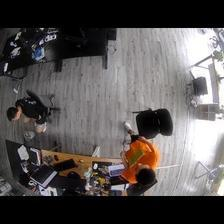normal: (116, 119, 162, 185), (6, 86, 52, 141)
